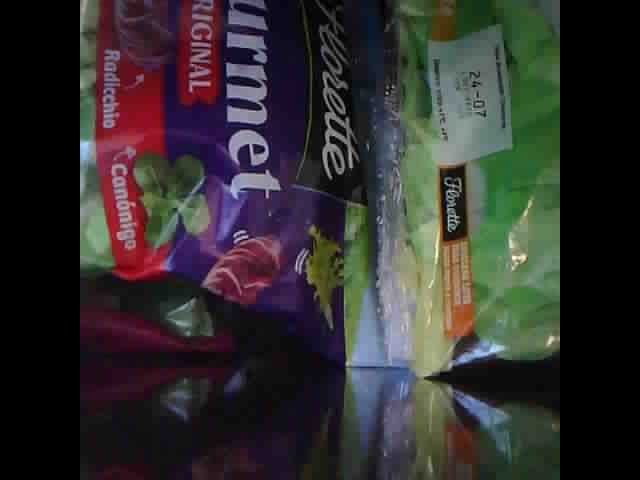florette: (81, 1, 374, 359), (373, 3, 559, 389)
